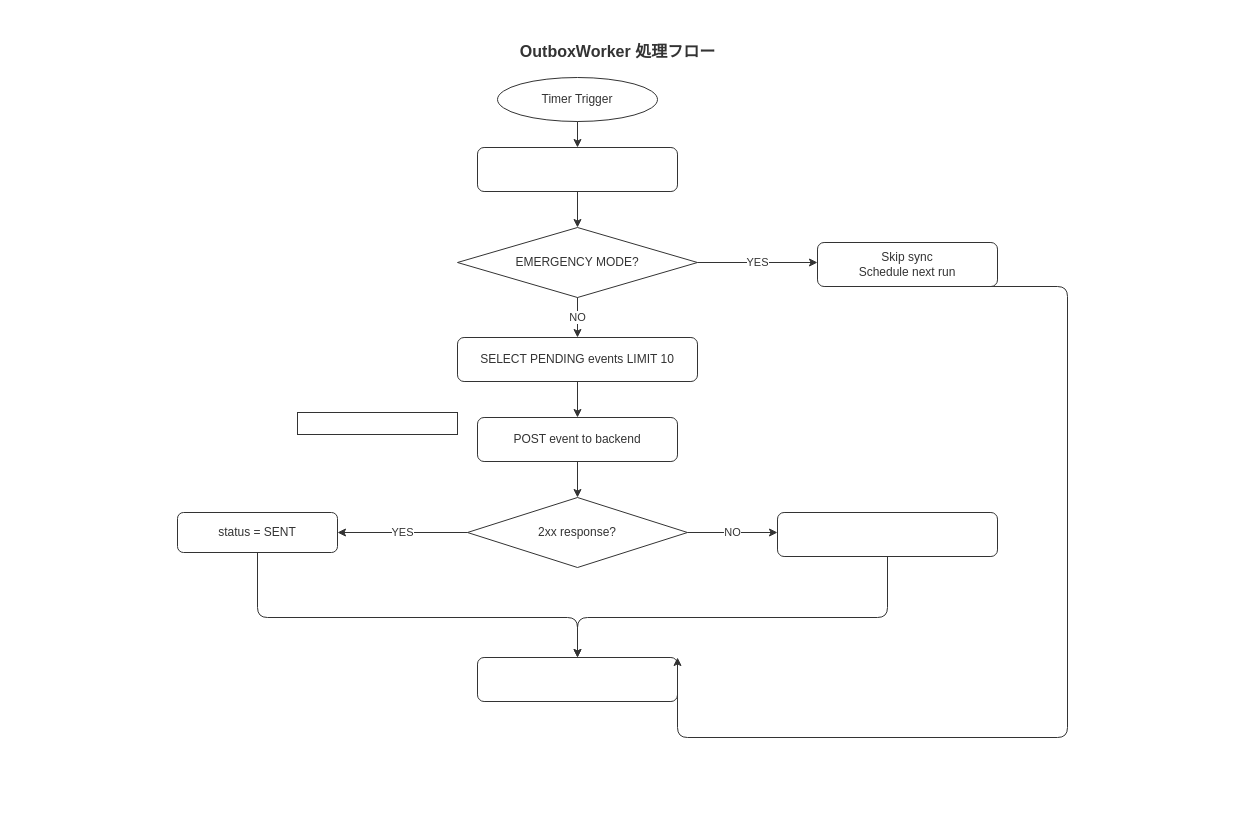
Some shapes in this 1234 by 834 pixel diagram are drawn without their labels. Here are the shapes that lost their labels. From the top down, the centre of each, then its label:
At pixel 577 169: "CHECK network state".
At pixel 377 423: "[ for each event ]".
At pixel 887 534: "retry_count++ retry >= 5: DEAD_LETTERED".
At pixel 577 679: "Schedule next run".
